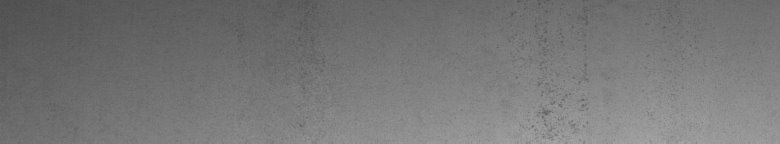ib: (511, 11, 588, 136)
